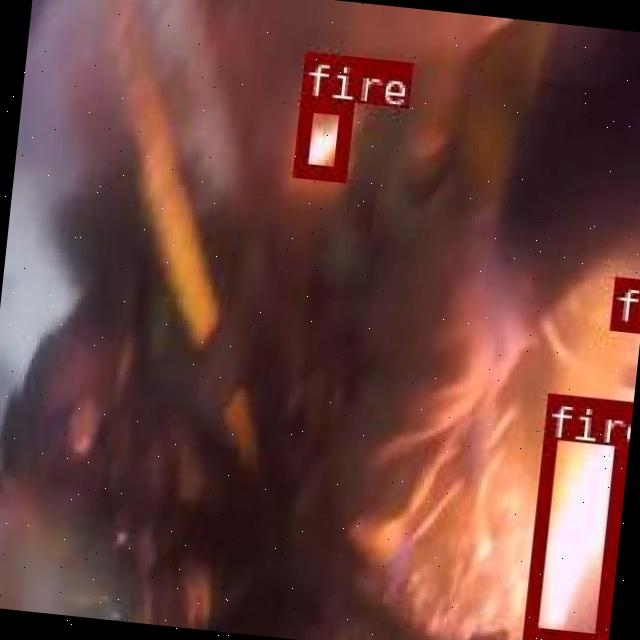fire: (521, 391, 628, 640), (292, 95, 349, 176), (607, 275, 640, 327)
